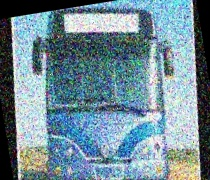bus: (10, 0, 201, 180)
